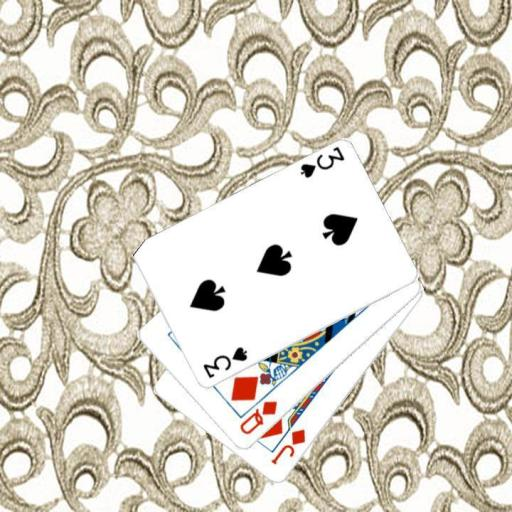card-corner: (296, 144, 346, 180), (200, 344, 249, 380), (236, 398, 279, 436), (268, 426, 308, 466)
